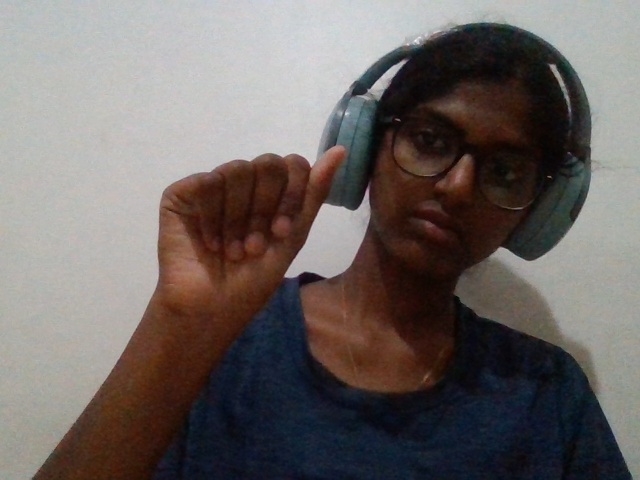A: (93, 135, 359, 362)
